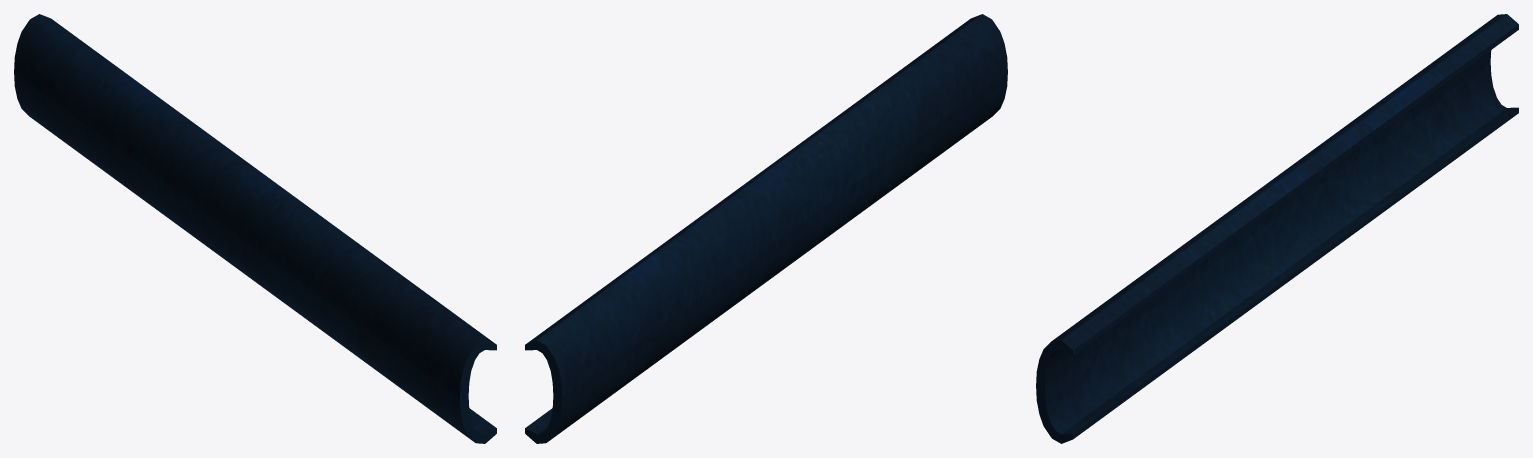
Rendered from SpellbookFinal_Spine 1.fbx.
3 renders of one model, left to right at view 1: azimuth 30°, elevation 25°; view 2: azimuth 150°, elevation 25°; view 3: azimuth 330°, elevation 25°, orthographic.
Parts seen in each view (by area): view 1: spellbook_spine; view 2: spellbook_spine; view 3: spellbook_spine.
Part boxes in pixels (left/top/right/bottom): spellbook_spine: left=14, top=14, right=496, bottom=443; spellbook_spine: left=525, top=14, right=1007, bottom=443; spellbook_spine: left=1036, top=14, right=1518, bottom=443.
Size of the model in its own units: 1.64 by 4.37 by 34.02.
